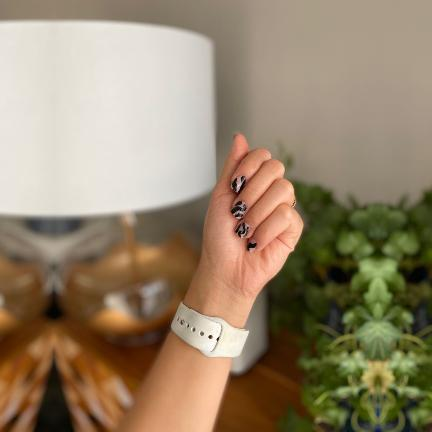Nail: (230, 201, 248, 219), (231, 175, 247, 194), (235, 222, 250, 239), (246, 239, 258, 253)
